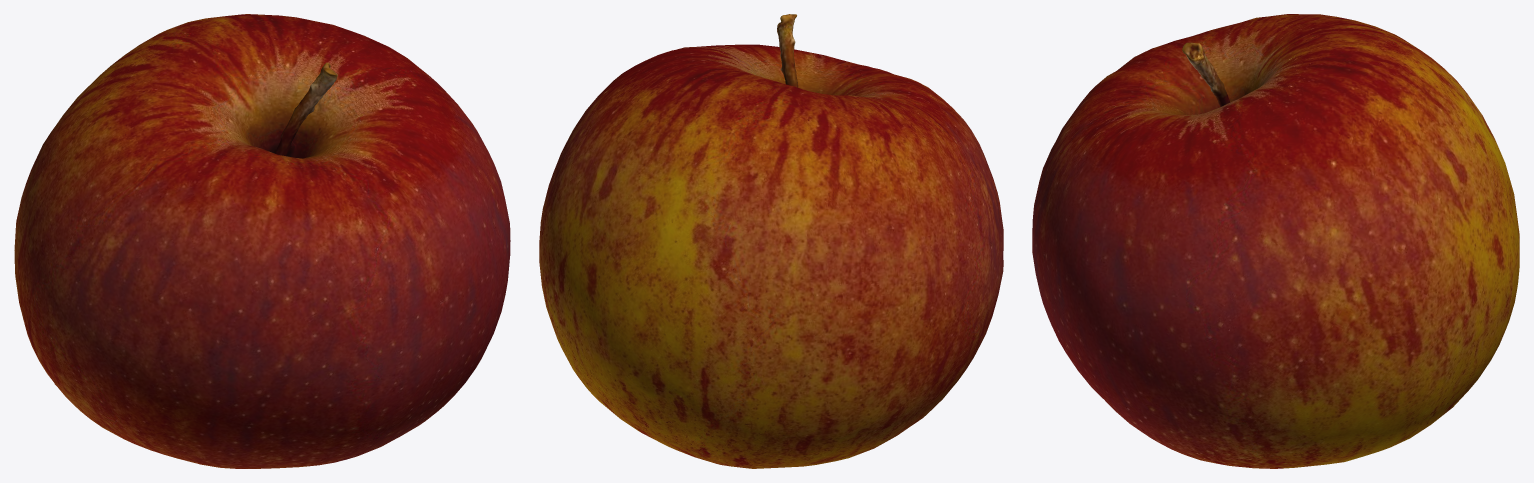
Rendered from food_apple_01_1k.gltf.
3 views of the same model, side by side, from view 1: azimuth 30°, elevation 25°; view 2: azimuth 150°, elevation 25°; view 3: azimuth 270°, elevation 25° (orthographic). The views are drawn at different scales.
Visible parts, largest first — view 1: food_apple_01; view 2: food_apple_01; view 3: food_apple_01.
Boxes of the visible parts, <box> form: food_apple_01: <box>14,14,510,468</box>; food_apple_01: <box>539,14,1003,468</box>; food_apple_01: <box>1032,14,1519,468</box>.
Size of the model in its own units: 0.0976 by 0.0854 by 0.0959.
Materials: 1 (1 with a texture image).
